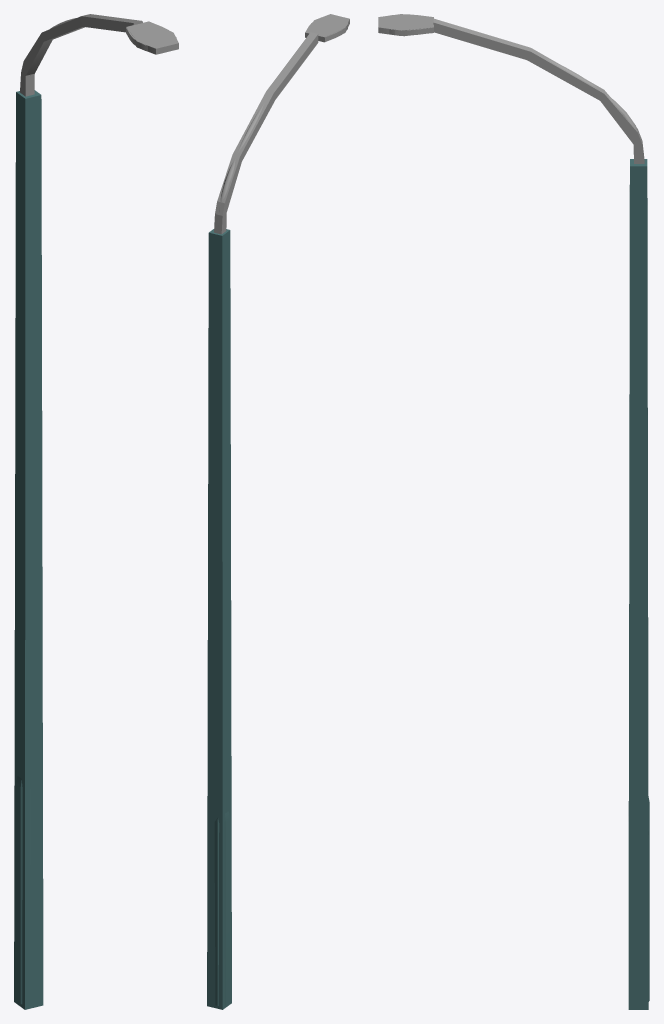
Rendered from E_curve lamp.fbx.
3 views of the same model, side by side, from view 1: azimuth 30°, elevation 25°; view 2: azimuth 150°, elevation 25°; view 3: azimuth 270°, elevation 25° (orthographic). The views are drawn at different scales.
Visible parts, largest first — view 1: mp_e_curvelamp, hp_e_curvelamp; view 2: mp_e_curvelamp, hp_e_curvelamp; view 3: mp_e_curvelamp, hp_e_curvelamp.
Boxes of the visible parts, x1=… form: mp_e_curvelamp: x1=14, y1=14, x2=178, y2=1009; hp_e_curvelamp: x1=15, y1=17, x2=176, y2=1004; mp_e_curvelamp: x1=207, y1=14, x2=349, y2=1009; hp_e_curvelamp: x1=214, y1=22, x2=347, y2=1005; mp_e_curvelamp: x1=378, y1=14, x2=648, y2=1009; hp_e_curvelamp: x1=389, y1=14, x2=649, y2=1001.
Size of the model in its own units: 44.13 by 1224 by 305.
